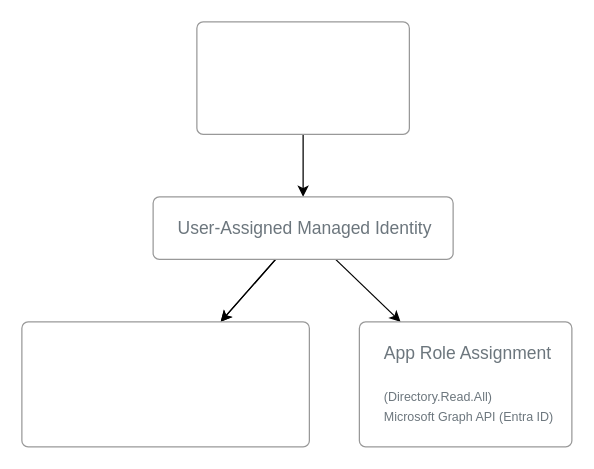
The diagram is 594 pixels wide and 469 high, and some of its shapes have lost their labels. Here are the shapes that lost their labels. From the top down, the box of each, then its label:
(196, 21, 409, 134): Azure Runbook Connect-AzAccount -Identity Connect-MgGraph -Identity
(21, 321, 309, 447): Azure RBAC CommunicationServiceEmail.Domains.Read, CommunicationService Reader
